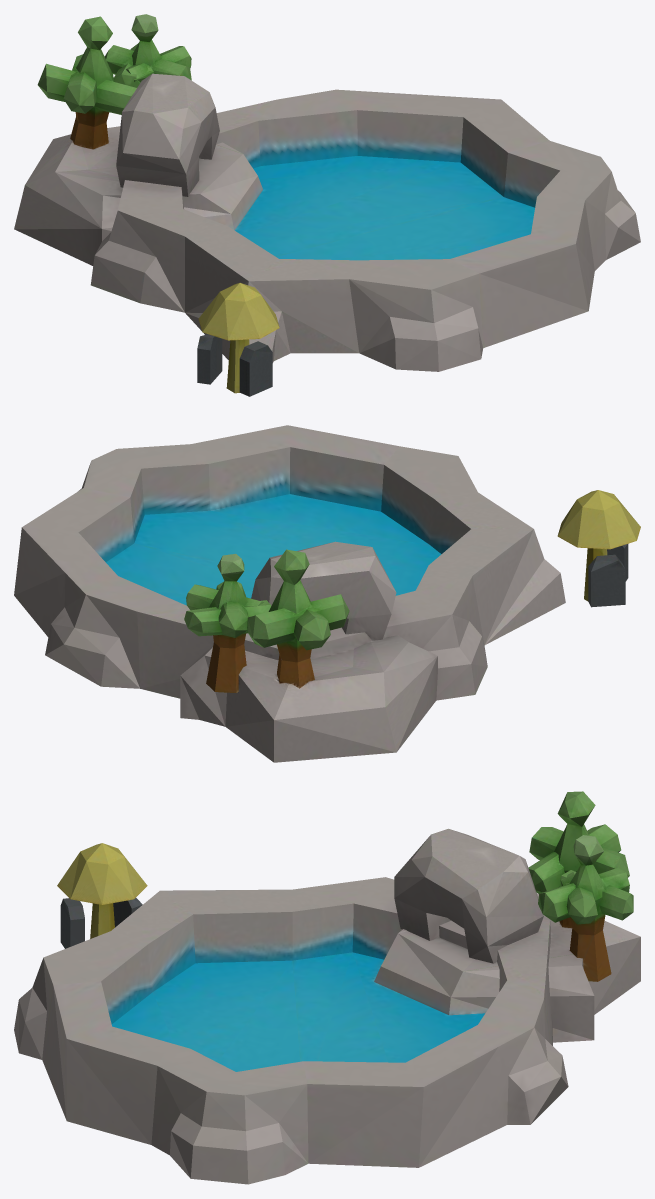
The model's file is hotspring.glb.
3 renders of one model, top to bottom at view 1: azimuth 30°, elevation 25°; view 2: azimuth 150°, elevation 25°; view 3: azimuth 270°, elevation 25°, orthographic. The views are drawn at different scales.
Parts seen in each view (by area): view 1: tripo_node_87e79457-47fc-4754-8dea-ea7fc1627f19; view 2: tripo_node_87e79457-47fc-4754-8dea-ea7fc1627f19; view 3: tripo_node_87e79457-47fc-4754-8dea-ea7fc1627f19.
Boxes of the visible parts, x1,y1,x2,y2 form: tripo_node_87e79457-47fc-4754-8dea-ea7fc1627f19: (14,14,640,396); tripo_node_87e79457-47fc-4754-8dea-ea7fc1627f19: (14,425,640,762); tripo_node_87e79457-47fc-4754-8dea-ea7fc1627f19: (14,791,640,1184).
Bounding box in the file's own units: 0.9668 × 0.3574 × 0.998.
1 material, 1 textured.
